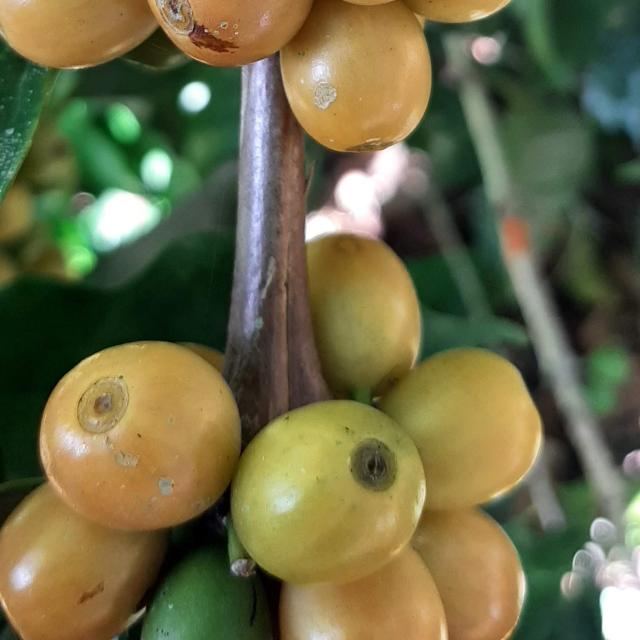green: (231, 401, 426, 585), (380, 349, 543, 511), (307, 233, 422, 393), (140, 547, 273, 640)
red: (38, 341, 241, 532), (0, 485, 166, 640), (280, 0, 432, 151), (279, 546, 448, 640), (412, 508, 526, 640), (148, 0, 313, 66), (0, 0, 157, 68), (405, 0, 511, 22)
